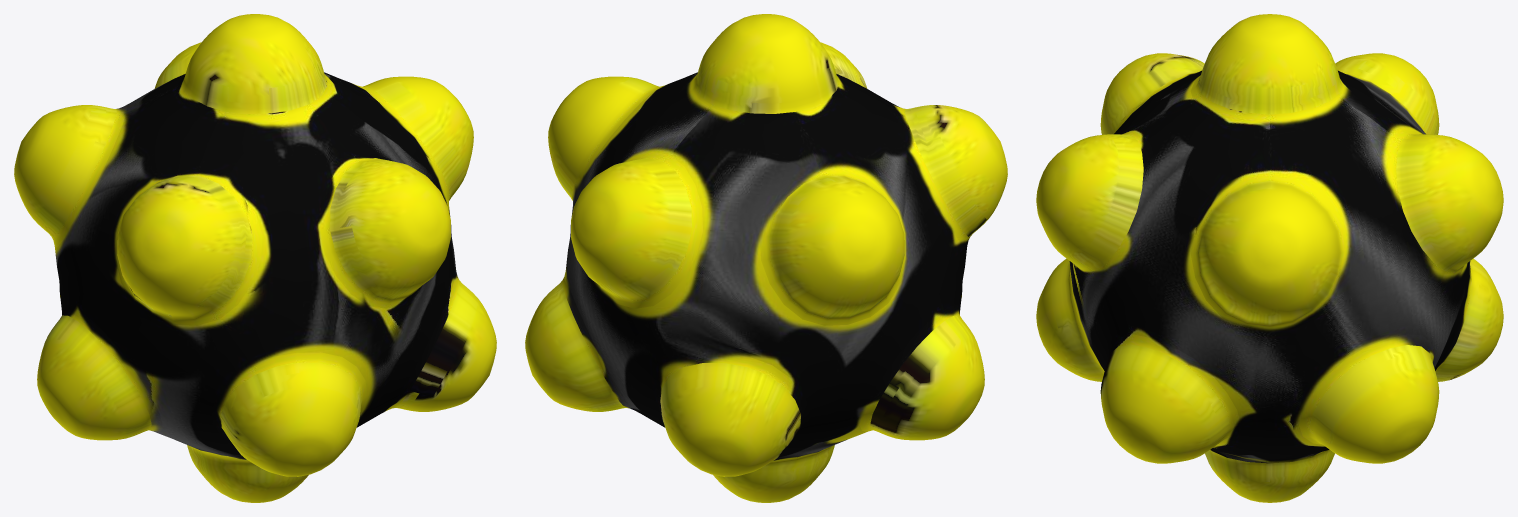
The model's file is katamari_ball.obj.
3 views of the same model, side by side, from view 1: azimuth 30°, elevation 25°; view 2: azimuth 150°, elevation 25°; view 3: azimuth 270°, elevation 25° (orthographic).
Visible parts, largest first — view 1: Katamari_Icosphere.000; view 2: Katamari_Icosphere.000; view 3: Katamari_Icosphere.000.
Part boxes in pixels (bbox=[...]): Katamari_Icosphere.000: bbox=[14, 14, 496, 502]; Katamari_Icosphere.000: bbox=[525, 14, 1007, 502]; Katamari_Icosphere.000: bbox=[1036, 14, 1503, 502].
Bounding box in the file's own units: 2.29 × 2.48 × 2.21.
Materials: 1 (1 with a texture image).
